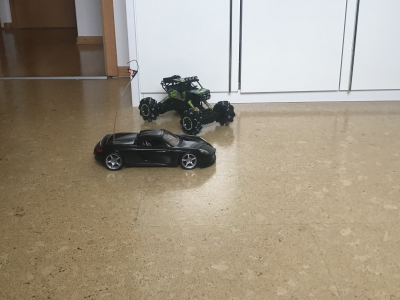remote control car: (137, 69, 236, 134)
